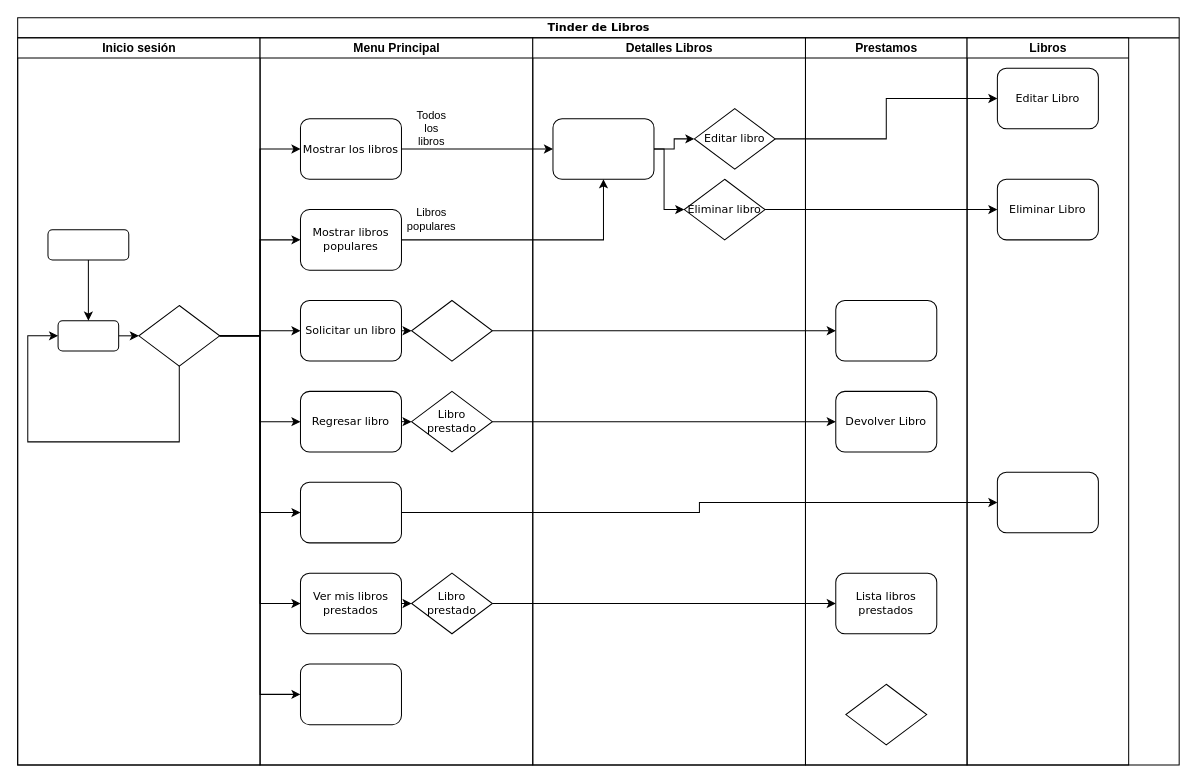
This 1197x783 diagram has some shape labels left out. The centre of each missing label's shape, as x and y in pixels:
"Agregar Libro" goes at (x=1047, y=502).
"Agregar nuevo Libro" goes at (x=350, y=512).
"Libro disponible" goes at (x=451, y=330).
"Login" goes at (x=88, y=335).
"Mostrar Detalles" goes at (x=603, y=148).
"Pedir Libro" goes at (x=886, y=330).
"Registrarse" goes at (x=88, y=244).
"Salir" goes at (x=350, y=694).
"¿Login correcto?" goes at (x=179, y=335).
